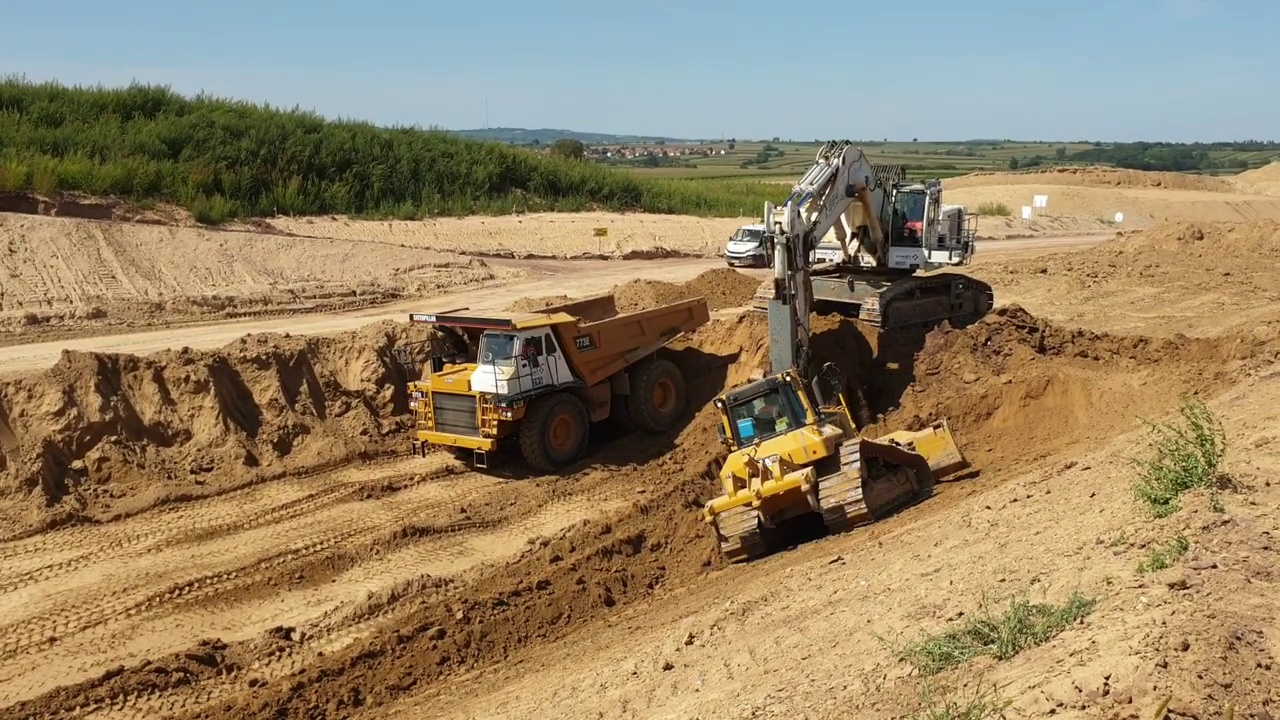bulldozer: (701, 354, 978, 564)
excavator: (767, 140, 997, 465)
truck: (406, 289, 714, 483), (721, 221, 797, 269)
